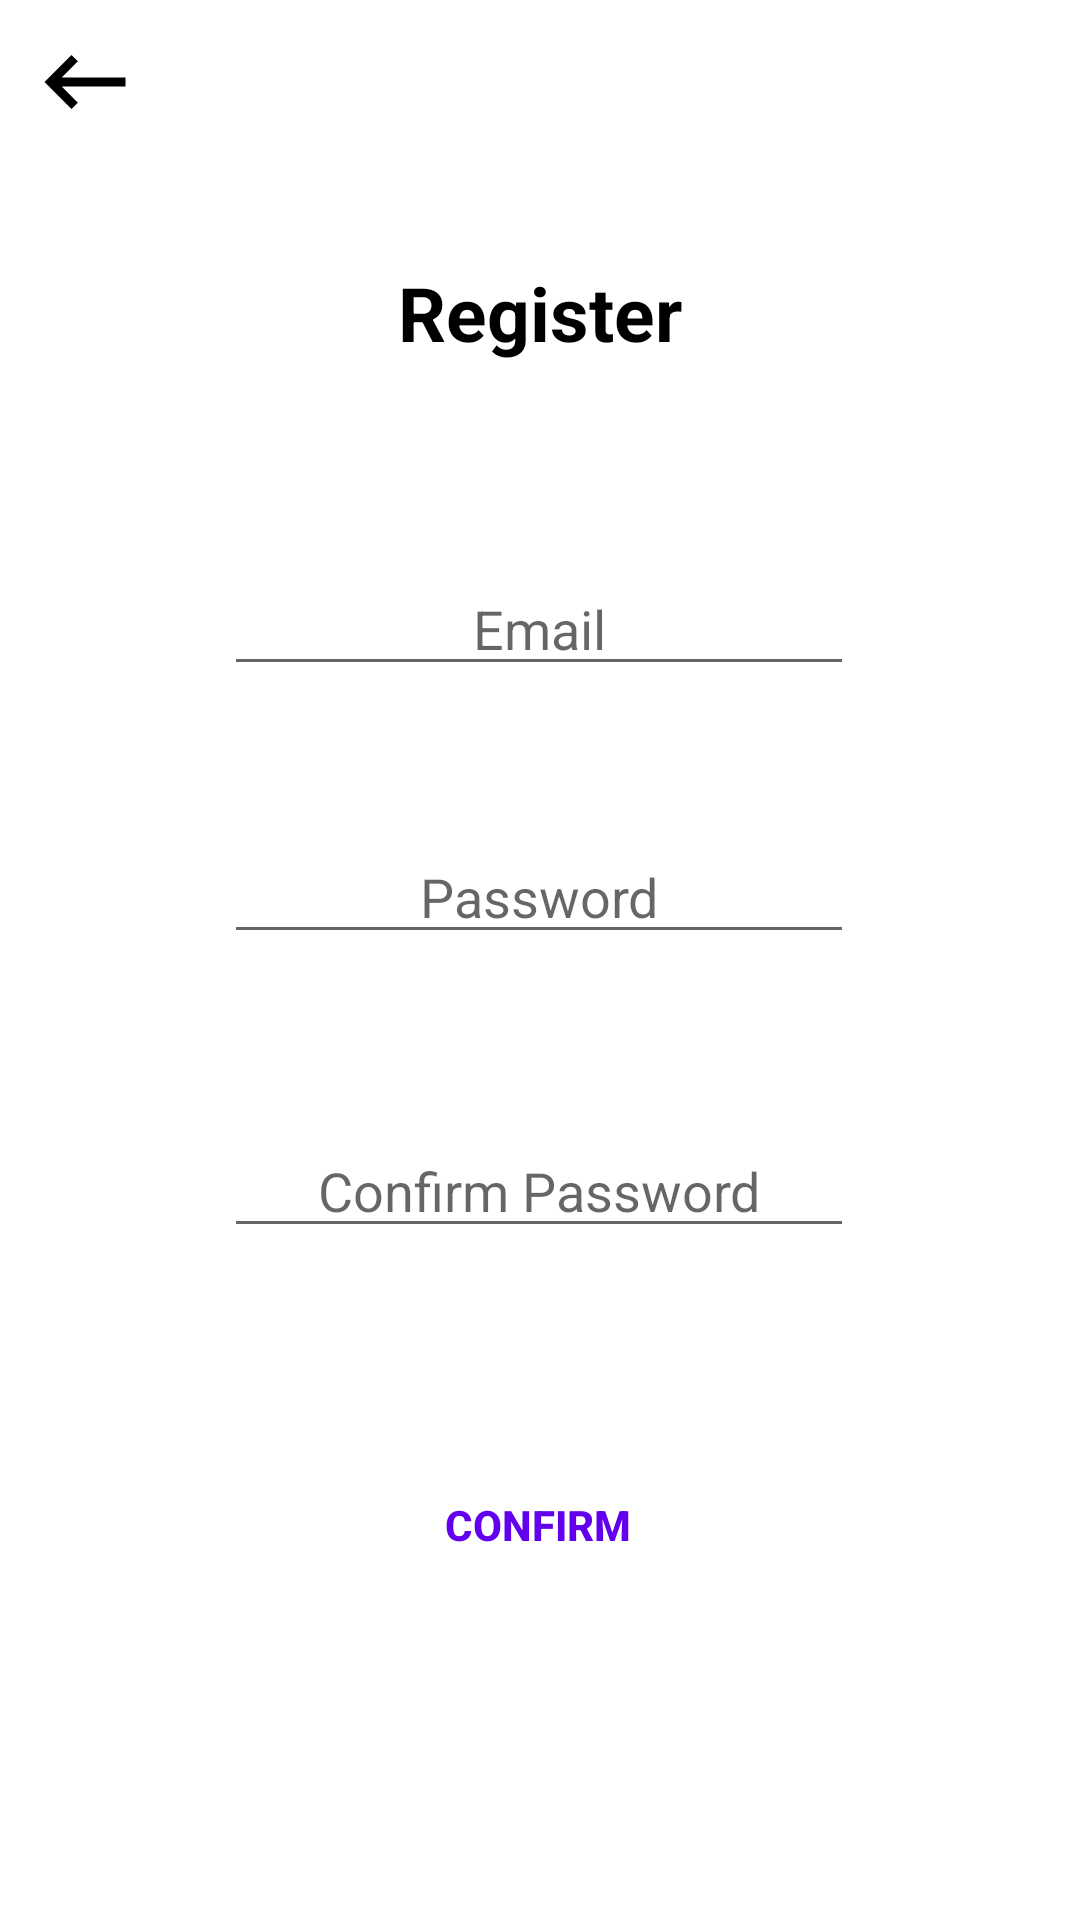

Where to tap for icons on this 1080 x 1920 app screen, as (x=x, y=y):
keyboard backspace: (x=85, y=82)
